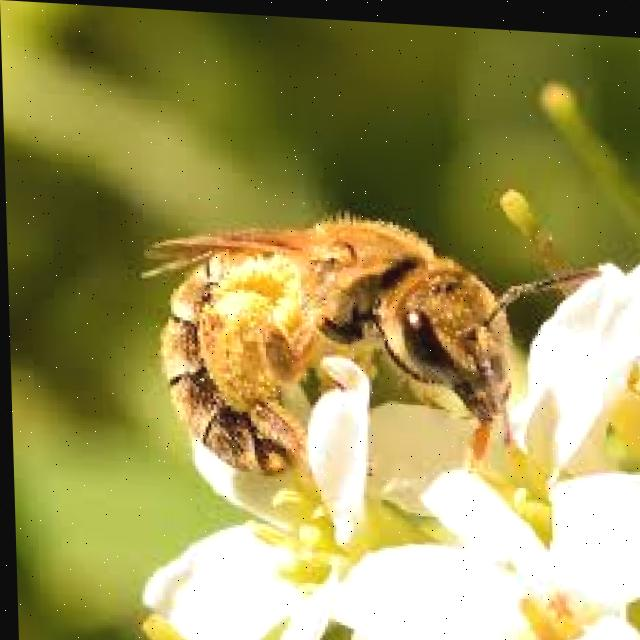Seladonia: (105, 171, 550, 494)
